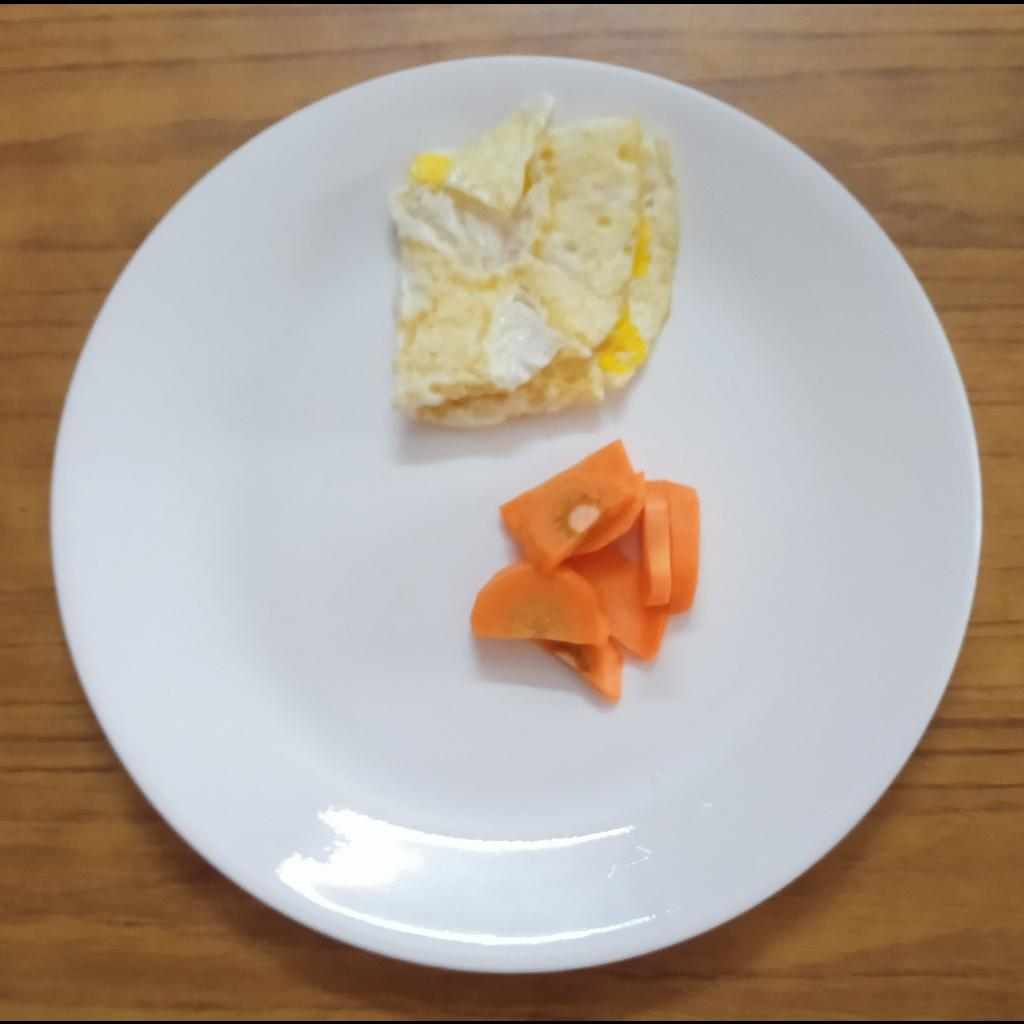carrot: (467, 439, 703, 710)
egg-poached: (386, 83, 681, 429)
